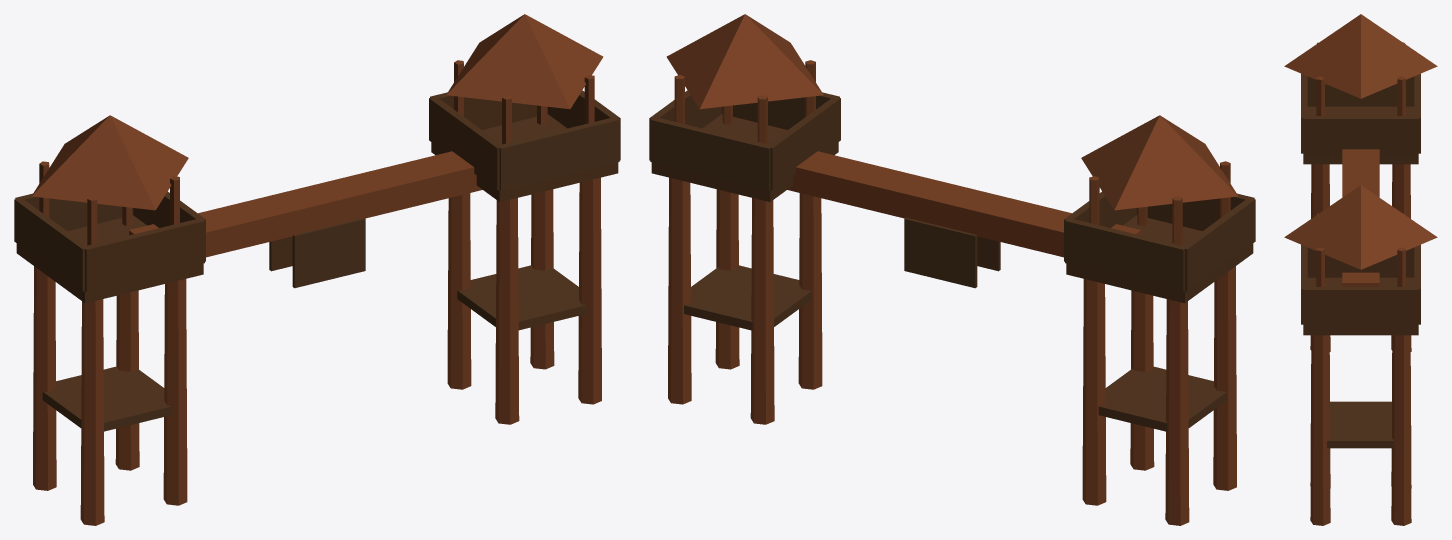
The model's file is orc_gate_broken.glb.
3 views of the same model, side by side, from view 1: azimuth 30°, elevation 25°; view 2: azimuth 150°, elevation 25°; view 3: azimuth 270°, elevation 25° (orthographic). The views are drawn at different scales.
Parts seen in each view (by area): view 1: orc_gate_piece6, orc_gate_piece7, orc_gate_piece9, orc_gate_piece3, orc_gate_piece0, orc_gate_piece13, orc_gate_piece8, orc_gate_piece4, orc_gate_piece2, orc_gate_piece10, orc_gate_piece1, orc_gate_piece5 (+2 smaller); view 2: orc_gate_piece0, orc_gate_piece4, orc_gate_piece6, orc_gate_piece8, orc_gate_piece13, orc_gate_piece11, orc_gate_piece7, orc_gate_piece2, orc_gate_piece9, orc_gate_piece3, orc_gate_piece5, orc_gate_piece1; view 3: orc_gate_piece0, orc_gate_piece4, orc_gate_piece7, orc_gate_piece6, orc_gate_piece2, orc_gate_piece13, orc_gate_piece1, orc_gate_piece3, orc_gate_piece10, orc_gate_piece9, orc_gate_piece8.
Part boxes in pixels (x1=…): orc_gate_piece6: x1=482, y1=89, x2=620, y2=404; orc_gate_piece7: x1=36, y1=116, x2=298, y2=348; orc_gate_piece9: x1=72, y1=241, x2=205, y2=525; orc_gate_piece3: x1=270, y1=23, x2=600, y2=287; orc_gate_piece0: x1=429, y1=14, x2=603, y2=363; orc_gate_piece13: x1=385, y1=79, x2=578, y2=389; orc_gate_piece8: x1=33, y1=229, x2=164, y2=490; orc_gate_piece4: x1=14, y1=115, x2=298, y2=296; orc_gate_piece2: x1=28, y1=143, x2=335, y2=354; orc_gate_piece10: x1=84, y1=176, x2=205, y2=284; orc_gate_piece1: x1=482, y1=41, x2=609, y2=173; orc_gate_piece5: x1=80, y1=254, x2=365, y2=522; orc_gate_piece0: x1=649, y1=14, x2=810, y2=404; orc_gate_piece4: x1=958, y1=115, x2=1217, y2=348; orc_gate_piece6: x1=706, y1=37, x2=840, y2=381; orc_gate_piece8: x1=1082, y1=225, x2=1225, y2=525; orc_gate_piece13: x1=685, y1=72, x2=898, y2=424; orc_gate_piece11: x1=855, y1=175, x2=976, y2=288; orc_gate_piece7: x1=983, y1=116, x2=1255, y2=324; orc_gate_piece2: x1=948, y1=146, x2=1237, y2=407; orc_gate_piece9: x1=1130, y1=214, x2=1253, y2=488; orc_gate_piece3: x1=699, y1=17, x2=1006, y2=271; orc_gate_piece5: x1=1000, y1=267, x2=1234, y2=490; orc_gate_piece1: x1=707, y1=22, x2=835, y2=142; orc_gate_piece0: x1=1345, y1=185, x2=1437, y2=525; orc_gate_piece4: x1=1357, y1=14, x2=1437, y2=218; orc_gate_piece7: x1=1304, y1=15, x2=1360, y2=198; orc_gate_piece6: x1=1284, y1=226, x2=1339, y2=525; orc_gate_piece2: x1=1350, y1=65, x2=1410, y2=217; orc_gate_piece13: x1=1337, y1=263, x2=1411, y2=524; orc_gate_piece1: x1=1300, y1=139, x2=1339, y2=318; orc_gate_piece3: x1=1326, y1=190, x2=1353, y2=335; orc_gate_piece10: x1=1284, y1=48, x2=1311, y2=143; orc_gate_piece9: x1=1301, y1=136, x2=1329, y2=218; orc_gate_piece8: x1=1353, y1=96, x2=1411, y2=351.
Size of the model in its own units: 4.83 by 3.05 by 1.33.
